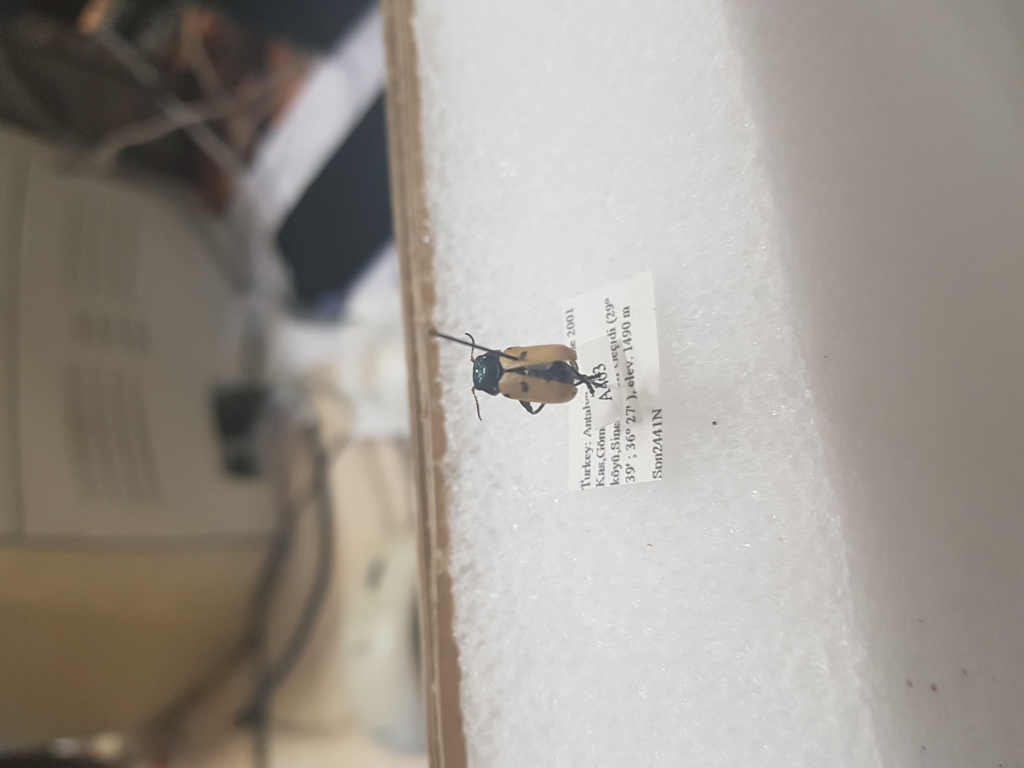Labidostomis_maculipennis: (453, 328, 596, 416)
